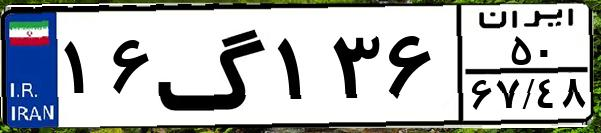0: (537, 27, 568, 80)
1: (270, 28, 330, 110), (57, 26, 110, 100)
3: (330, 28, 385, 110)
4: (535, 70, 560, 125)
5: (508, 27, 537, 80)
6: (385, 28, 445, 110), (110, 28, 156, 98), (470, 70, 495, 125)
7: (495, 70, 520, 125)
8: (560, 70, 590, 125)
گ: (156, 12, 270, 120)
